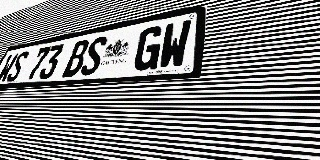3: (38, 44, 65, 79)
7: (25, 46, 51, 80)
B: (62, 39, 91, 77)
G: (131, 25, 165, 72)
S: (79, 35, 109, 76), (5, 50, 30, 82)
W: (157, 19, 192, 70), (0, 53, 19, 83)
